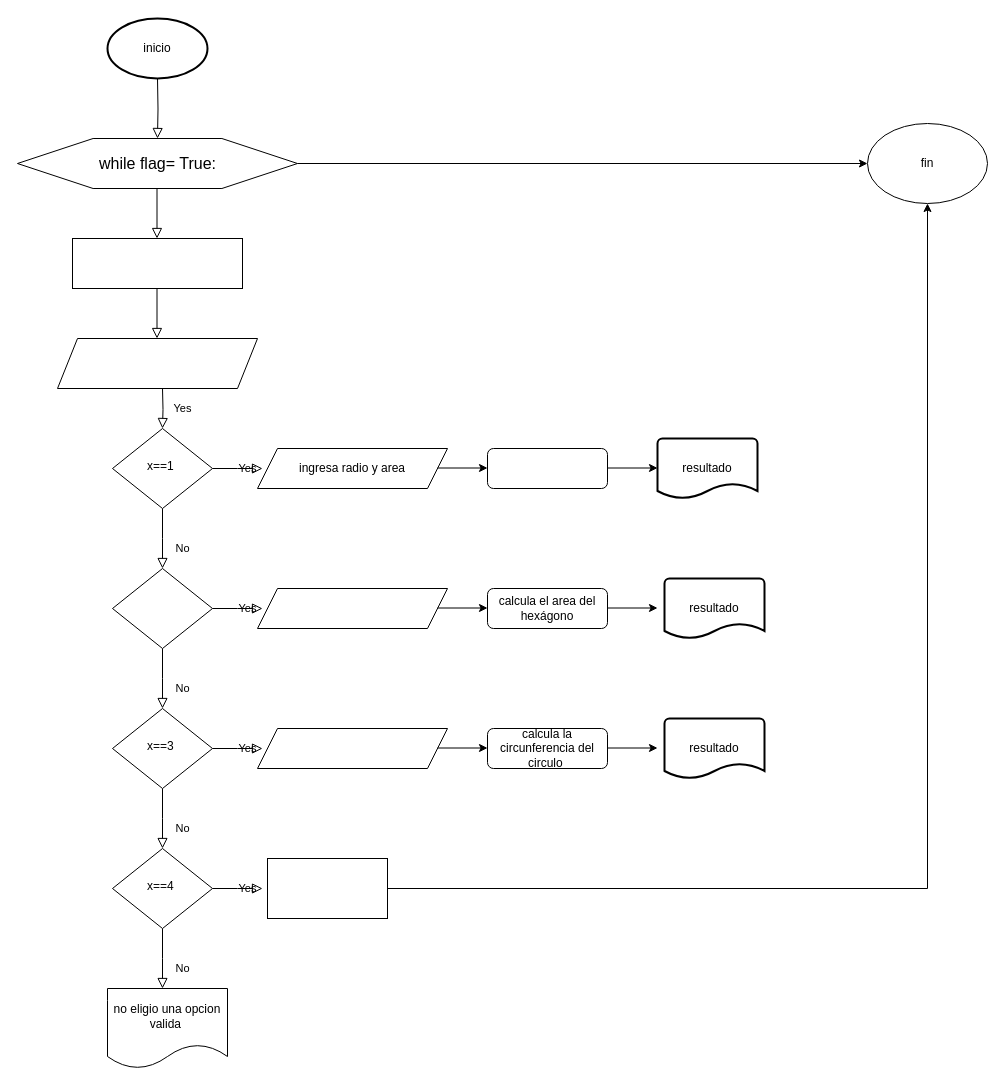
Some shapes in this 1005 by 1086 pixel diagram are drawn without their labels. The centre of each missing label's shape, as x and y in pixels:
"calcula el area del circulo" goes at (547,468).
"el usuario ingresa el numero correspondiente a la operación" goes at (157,363).
"flag = false" goes at (327,888).
"ingresa lado y area" goes at (352,608).
"ingresa radio" goes at (352,748).
"inicia el proceso de selección de opciones" goes at (157,263).
"x==2" goes at (162,608).
